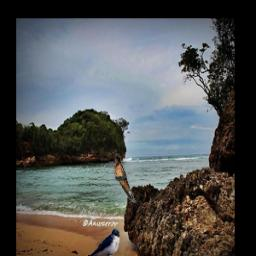Swallow: (113, 155, 137, 204), (85, 228, 120, 256)
